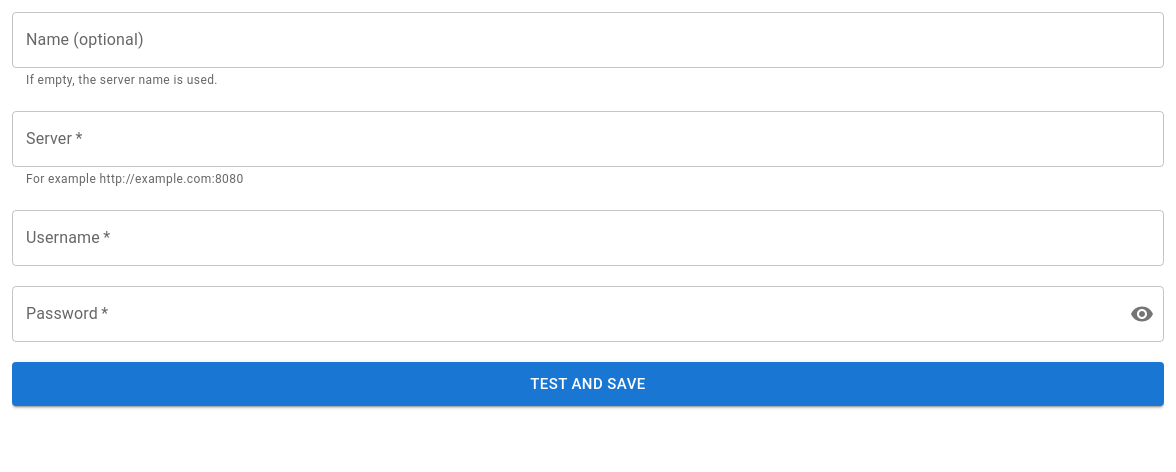
SRC-03 AC2 + UX-01 AC3 — test and save › a failing initial sync never blocks saving
In the field labelled "Server": [588, 139] box [12,111,1164,167], type "panel.example.test:8080"
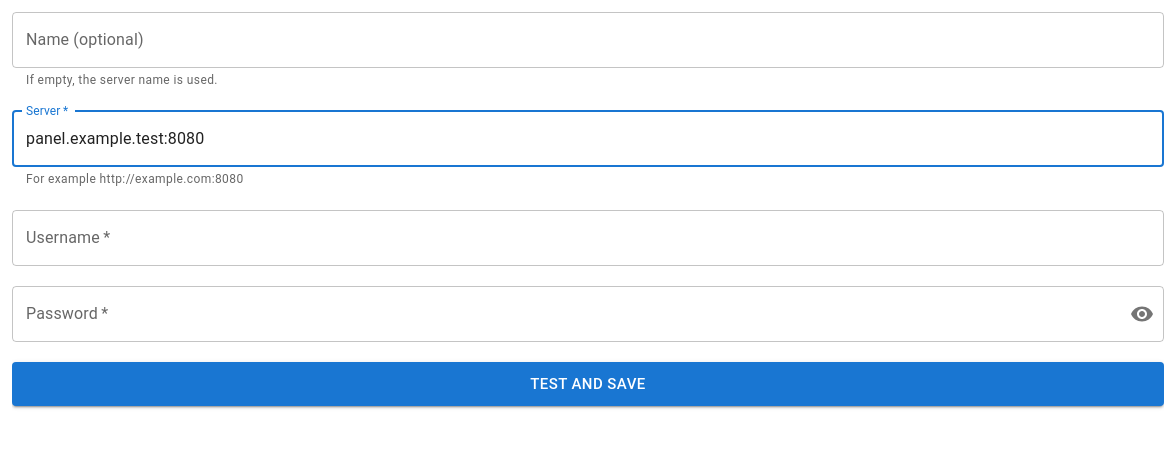
In the field labelled "Username": [588, 238] box [12,210,1164,266], type "jdoe"
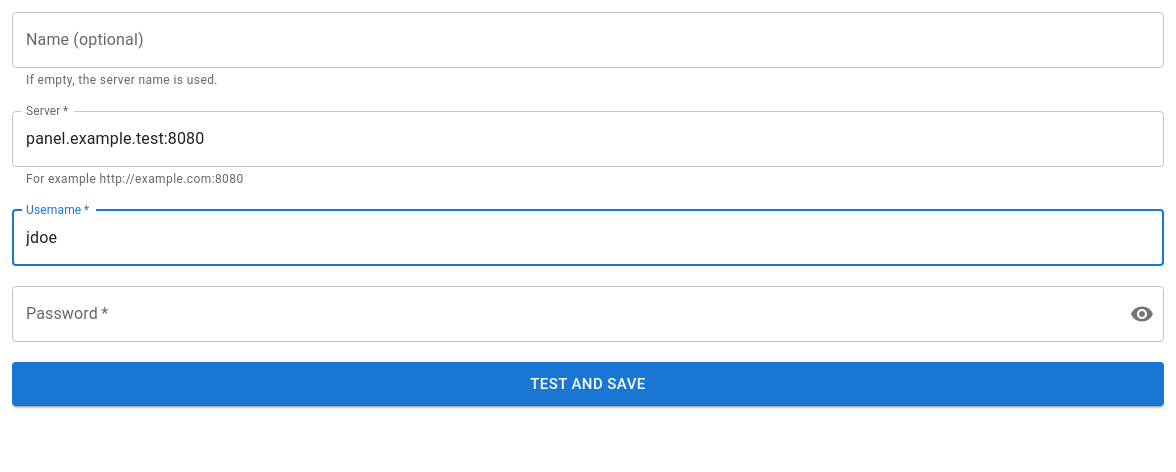
In the password field labelled "Password": [563, 314] box [12,286,1114,342], type "testpass"
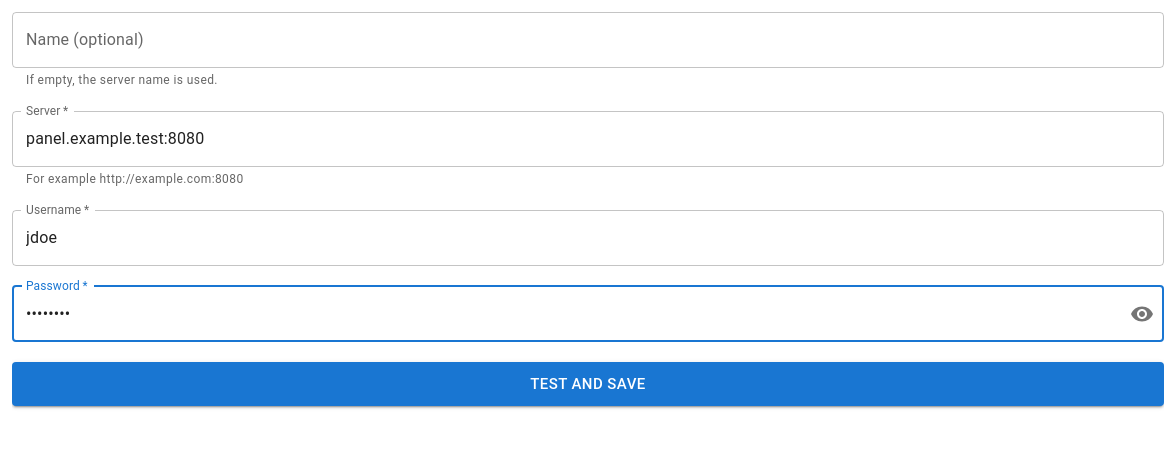
Click the button "Test and save": [588, 384] box [12,362,1164,406]
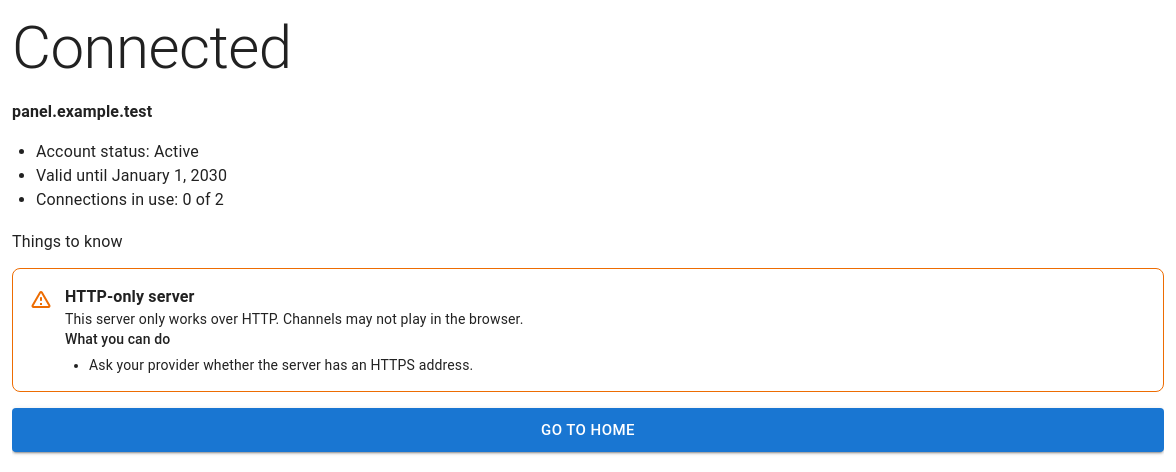
Now the heading "Connected" is shown, box [12,12,292,83]
